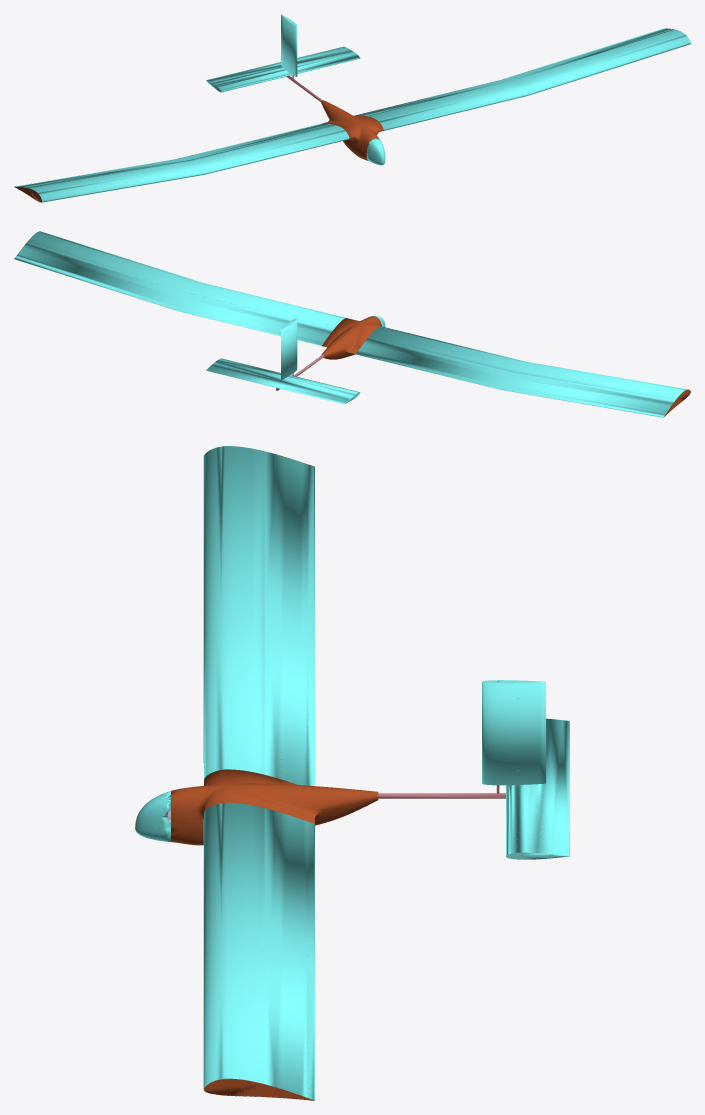
File: aircraft.glb
3 views of the same model, one above another, from view 1: azimuth 30°, elevation 25°; view 2: azimuth 150°, elevation 25°; view 3: azimuth 270°, elevation 25° (orthographic). The views are drawn at different scales.
Visible parts, largest first — view 1: Regius3Dメッシュ_あくまでメッシュだから細部データないよ; view 2: Regius3Dメッシュ_あくまでメッシュだから細部データないよ; view 3: Regius3Dメッシュ_あくまでメッシュだから細部データないよ.
Boxes of the visible parts, x1=… form: Regius3Dメッシュ_あくまでメッシュだから細部データないよ: x1=14, y1=14, x2=690, y2=202; Regius3Dメッシュ_あくまでメッシュだから細部データないよ: x1=14, y1=231, x2=690, y2=417; Regius3Dメッシュ_あくまでメッシュだから細部データないよ: x1=135, y1=446, x2=569, y2=1100.
Size of the model in its own units: 1 by 0.1167 by 0.2898.
